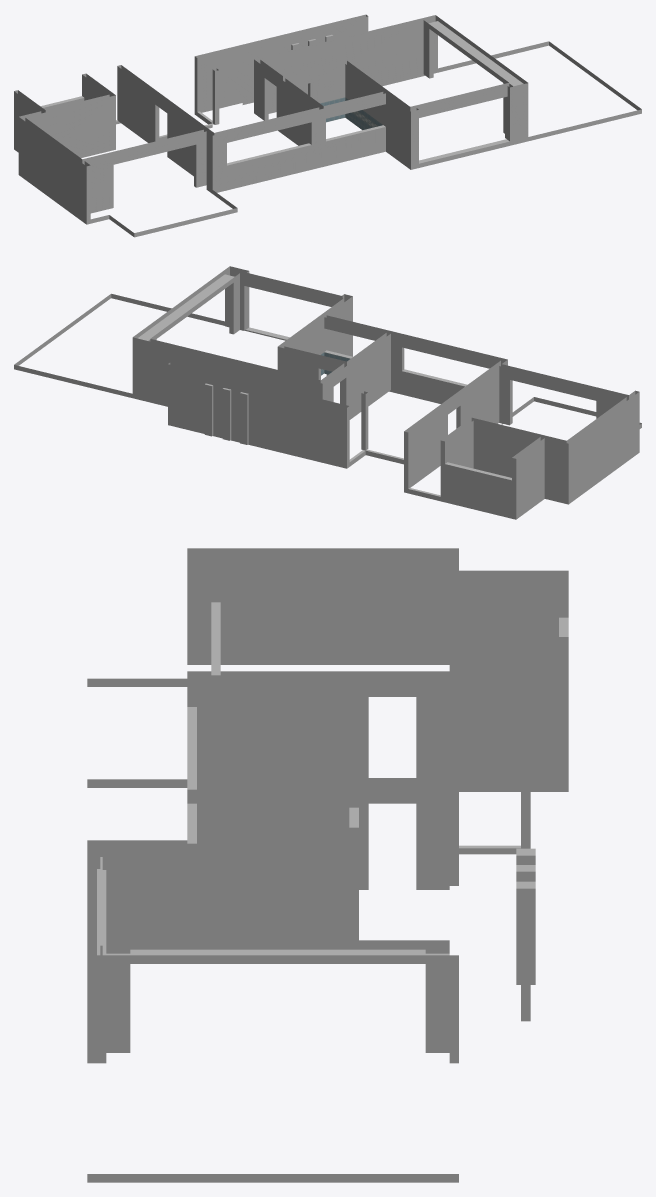
The model's file is wall_stair2.fbx.
3 views of the same model, one above another, from view 1: azimuth 30°, elevation 25°; view 2: azimuth 150°, elevation 25°; view 3: azimuth 270°, elevation 25° (orthographic). The views are drawn at different scales.
Parts seen in each view (by area): view 1: polySurface3214, polySurface3442, polySurface3212, polySurface3225, polySurface3219, polySurface1006, polySurface3226, polySurface3223, polySurface3449, polySurface3444, polySurface3216, polySurface3448; view 2: polySurface3214, polySurface3223, polySurface3226, polySurface3442, polySurface3219, polySurface3225, polySurface3216, polySurface3212, polySurface3444, polySurface1093, polySurface1006, pCube2 (+2 smaller); view 3: polySurface3225, polySurface3219, polySurface3226, polySurface3214, polySurface3442, polySurface3445, polySurface3216, polySurface3223, polySurface3212, pCube2.
Part boxes in pixels (<box>): polySurface3214: <box>14,65,237,237</box>; polySurface3442: <box>381,15,641,169</box>; polySurface3212: <box>206,93,385,193</box>; polySurface3225: <box>260,20,509,138</box>; polySurface3219: <box>25,67,203,176</box>; polySurface1006: <box>199,16,368,111</box>; polySurface3226: <box>149,28,381,145</box>; polySurface3223: <box>159,14,367,140</box>; polySurface3449: <box>286,64,345,103</box>; polySurface3444: <box>345,64,384,125</box>; polySurface3216: <box>19,76,109,113</box>; polySurface3448: <box>320,97,382,130</box>; polySurface3214: <box>404,364,641,519</box>; polySurface3223: <box>168,363,403,468</box>; polySurface3226: <box>189,333,500,419</box>; polySurface3442: <box>14,266,352,406</box>; polySurface3219: <box>410,366,626,487</box>; polySurface3225: <box>150,273,344,403</box>; polySurface3216: <box>446,420,540,477</box>; polySurface3212: <box>324,315,507,424</box>; polySurface3444: <box>285,317,324,354</box>; polySurface1093: <box>324,317,386,340</box>; polySurface1006: <box>170,362,346,407</box>; pCube2: <box>204,383,213,436</box>; polySurface3225: <box>100,781,449,955</box>; polySurface3219: <box>220,552,562,675</box>; polySurface3226: <box>197,675,458,885</box>; polySurface3214: <box>87,548,568,791</box>; polySurface3442: <box>87,840,458,1182</box>; polySurface3445: <box>197,782,349,840</box>; polySurface3216: <box>459,574,562,640</box>; polySurface3223: <box>449,737,530,1021</box>; polySurface3212: <box>187,671,211,843</box>; pCube2: <box>516,881,535,984</box>.
Bounding box in the file's own units: 2570 × 272 × 1010.
Materials: 3 (1 with a texture image).
